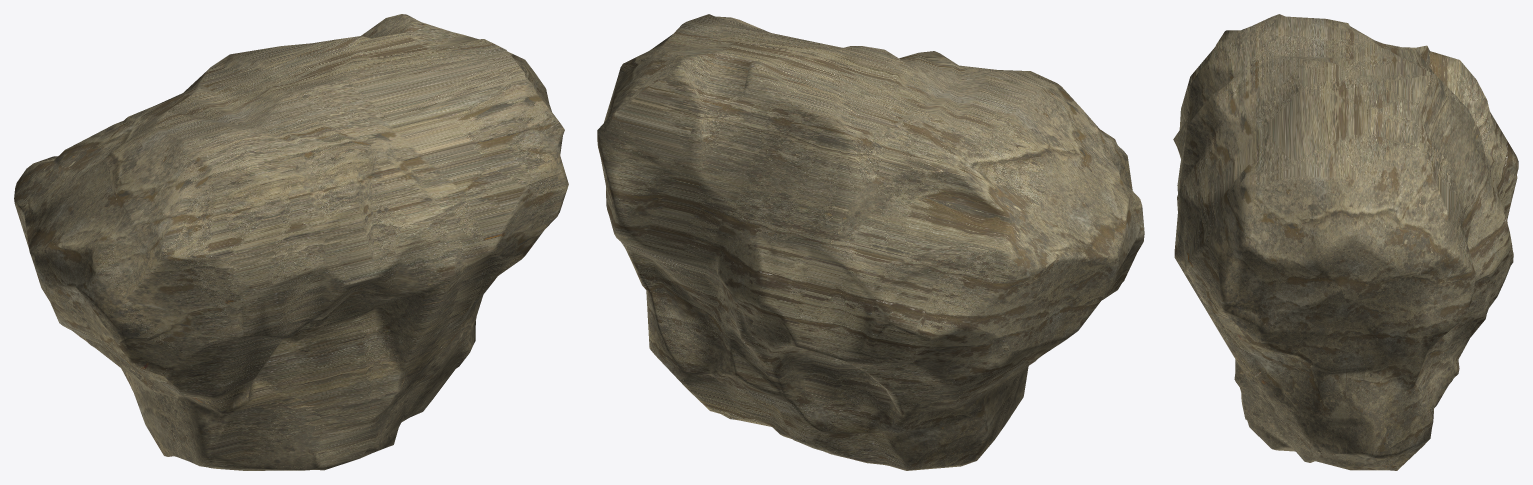
The model's file is saltmine_rock_large_01.dae.
3 views of the same model, side by side, from view 1: azimuth 30°, elevation 25°; view 2: azimuth 150°, elevation 25°; view 3: azimuth 270°, elevation 25° (orthographic). The views are drawn at different scales.
Parts seen in each view (by area): view 1: large_01; view 2: large_01; view 3: large_01.
Boxes of the visible parts, x1,y1,x2,y2 form: large_01: (14, 14, 568, 470); large_01: (597, 14, 1144, 470); large_01: (1173, 14, 1518, 470).
Bounding box in the file's own units: 4.11 × 2.88 × 2.54.
